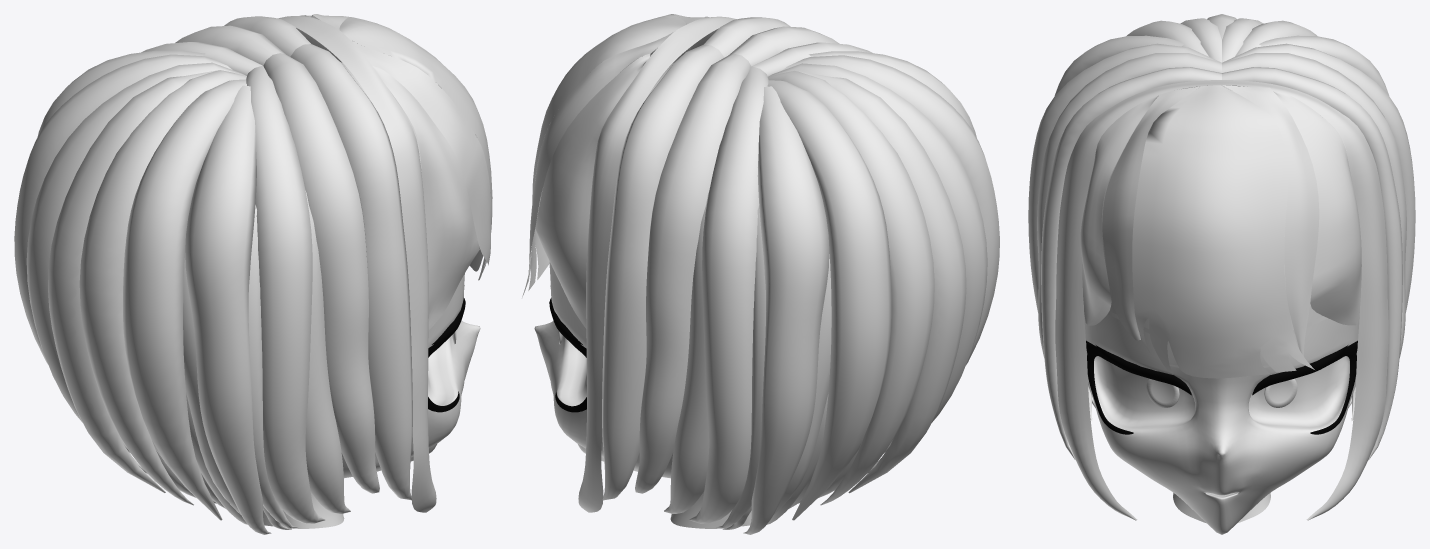
File: EYE_TEST.fbx
3 views of the same model, side by side, from view 1: azimuth 30°, elevation 25°; view 2: azimuth 150°, elevation 25°; view 3: azimuth 270°, elevation 25° (orthographic). The views are drawn at different scales.
Visible parts, largest first — view 1: NurbsPath.004, NurbsPath, NurbsPath.001, NurbsPath.007, NurbsPath.005, NurbsPath.002, NurbsPath.006, Plane.006, Plane.003, NurbsPath.003, text, Plane.008 (+5 smaller); view 2: NurbsPath.004, NurbsPath, NurbsPath.001, NurbsPath.007, NurbsPath.005, NurbsPath.002, NurbsPath.006, Plane.006, Plane.004, text, NurbsPath.003, Plane.Waos (+5 smaller); view 3: Plane.Waos, text, Plane.006, NurbsPath.002, Plane.004, NurbsPath.005, NurbsPath.007, Plane.001, Plane.008, Plane.003, NurbsPath.001, Eyelashes (+3 smaller).
Boxes of the visible parts, left/top/right/bottom form: NurbsPath.004: left=14, top=54, right=246, bottom=520; NurbsPath: left=26, top=62, right=246, bottom=505; NurbsPath.001: left=37, top=50, right=271, bottom=534; NurbsPath.007: left=141, top=42, right=325, bottom=523; NurbsPath.005: left=175, top=25, right=379, bottom=493; NurbsPath.002: left=224, top=16, right=412, bottom=500; NurbsPath.006: left=48, top=70, right=216, bottom=492; Plane.006: left=278, top=16, right=436, bottom=512; Plane.003: left=372, top=66, right=479, bottom=329; NurbsPath.003: left=305, top=191, right=350, bottom=513; text: left=263, top=62, right=480, bottom=528; Plane.008: left=350, top=40, right=491, bottom=265; NurbsPath.004: left=767, top=55, right=999, bottom=520; NurbsPath: left=767, top=63, right=987, bottom=505; NurbsPath.001: left=743, top=51, right=976, bottom=534; NurbsPath.007: left=689, top=42, right=872, bottom=523; NurbsPath.005: left=635, top=26, right=839, bottom=493; NurbsPath.002: left=602, top=17, right=790, bottom=500; NurbsPath.006: left=798, top=71, right=966, bottom=493; Plane.006: left=578, top=16, right=736, bottom=512; Plane.004: left=535, top=53, right=650, bottom=328; text: left=534, top=62, right=751, bottom=528; NurbsPath.003: left=664, top=191, right=709, bottom=513; Plane.Waos: left=522, top=14, right=686, bottom=297; Plane.Waos: left=1132, top=85, right=1314, bottom=378; text: left=1084, top=110, right=1359, bottom=534; Plane.006: left=1055, top=80, right=1388, bottom=520; NurbsPath.002: left=1041, top=67, right=1402, bottom=460; Plane.004: left=1273, top=91, right=1361, bottom=325; NurbsPath.005: left=1037, top=53, right=1406, bottom=357; NurbsPath.007: left=1028, top=43, right=1415, bottom=312; Plane.001: left=1222, top=85, right=1319, bottom=356; Plane.008: left=1102, top=86, right=1200, bottom=340; Plane.003: left=1080, top=95, right=1158, bottom=325; NurbsPath.001: left=1054, top=35, right=1389, bottom=407; Eyelashes: left=1086, top=340, right=1357, bottom=434.
Size of the model in its own units: 36.18 by 38.65 by 30.8.
9 materials, 1 textured.
